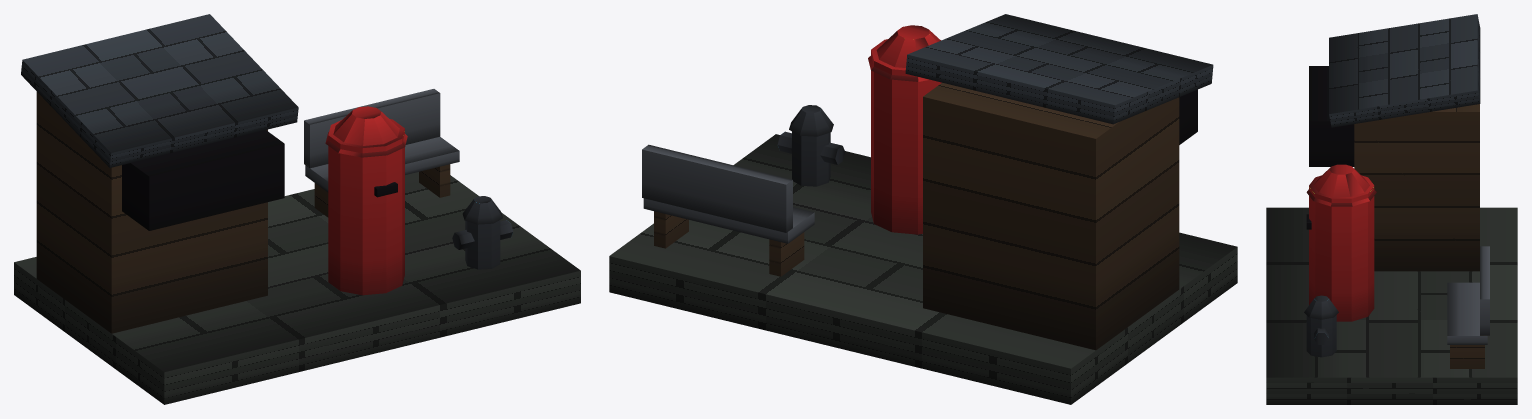
Rendered from street_kiosk.gltf.
The picture shows the model from 3 angles, left to right: view 1: azimuth 30°, elevation 25°; view 2: azimuth 150°, elevation 25°; view 3: azimuth 270°, elevation 25°; orthographic projection. The views are drawn at different scales.
Visible parts, largest first — view 1: street_kiosk; view 2: street_kiosk; view 3: street_kiosk.
Part boxes in pixels (<box>): street_kiosk: <box>14,14,580,404</box>; street_kiosk: <box>609,14,1237,404</box>; street_kiosk: <box>1266,14,1517,404</box>.
Size of the model in its own units: 1.66 by 0.9416 by 1.
Materials: 1 (1 with a texture image).
